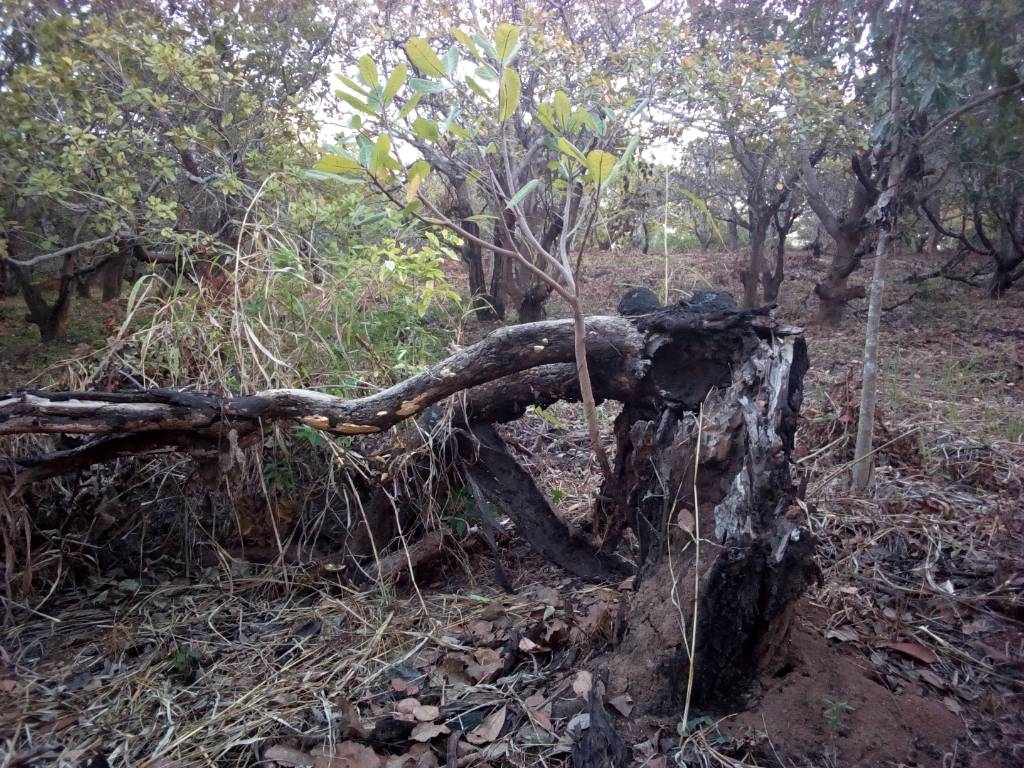Termites: (615, 462, 735, 713)
